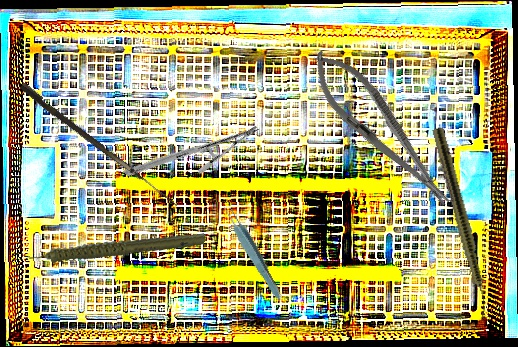Handpiece: (20, 206, 206, 286), (429, 125, 495, 322)
Hook Surgical: (17, 82, 183, 207)
Needle Holder: (297, 38, 465, 221), (122, 80, 261, 222)
Tissue Forceps: (219, 200, 287, 304)
